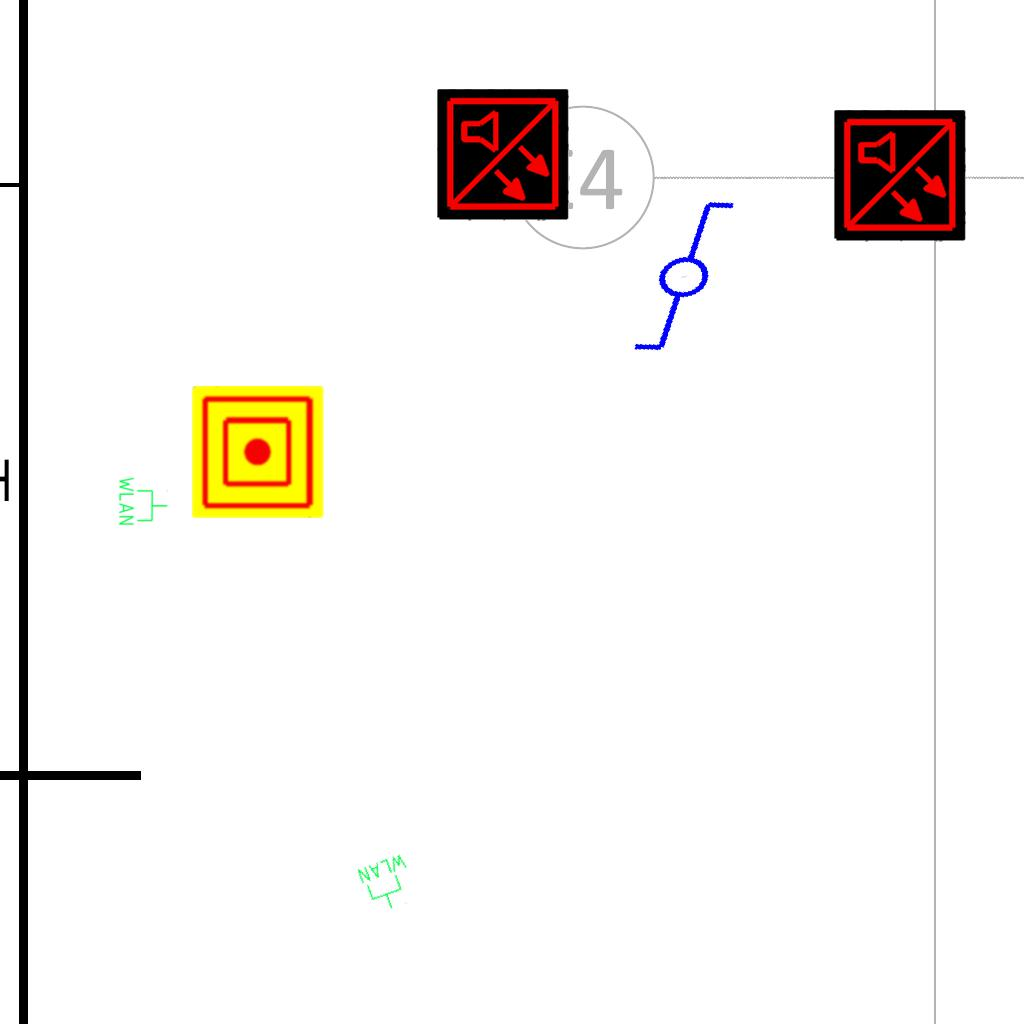NAM-Nichtautomatischer_Melder: (192, 386, 324, 518)
OKW_Multisensormelder_(Kombination_optischer_Rauch-Kahlenmonoxid_Waerme-Melder): (437, 89, 569, 221), (834, 110, 966, 242)
WLAN: (354, 850, 422, 918), (117, 475, 169, 527)
Wechselschalter: (581, 188, 770, 366), (830, 100, 930, 202)
